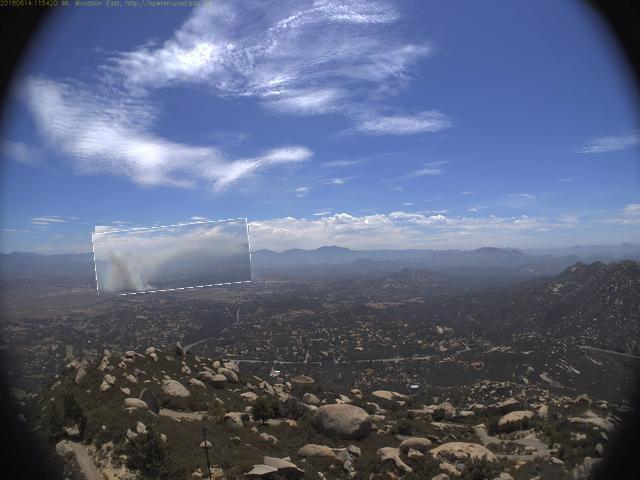smoke: (95, 223, 252, 294)
